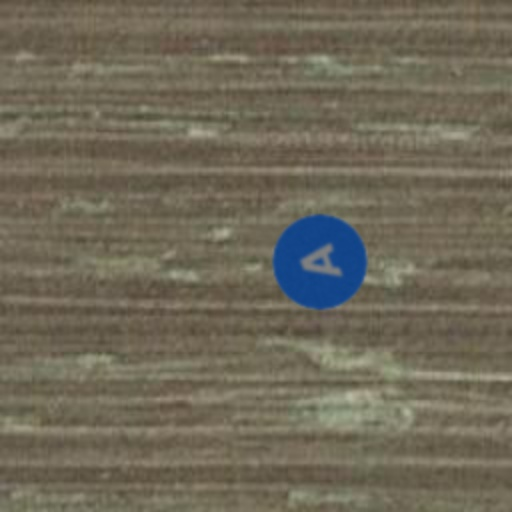circle: (258, 200, 382, 324)
